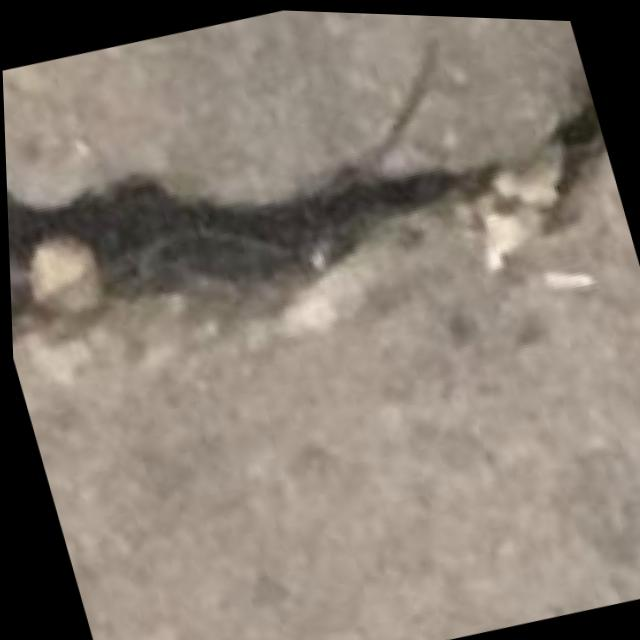Crack: (0, 0, 640, 566), (0, 0, 623, 397)
